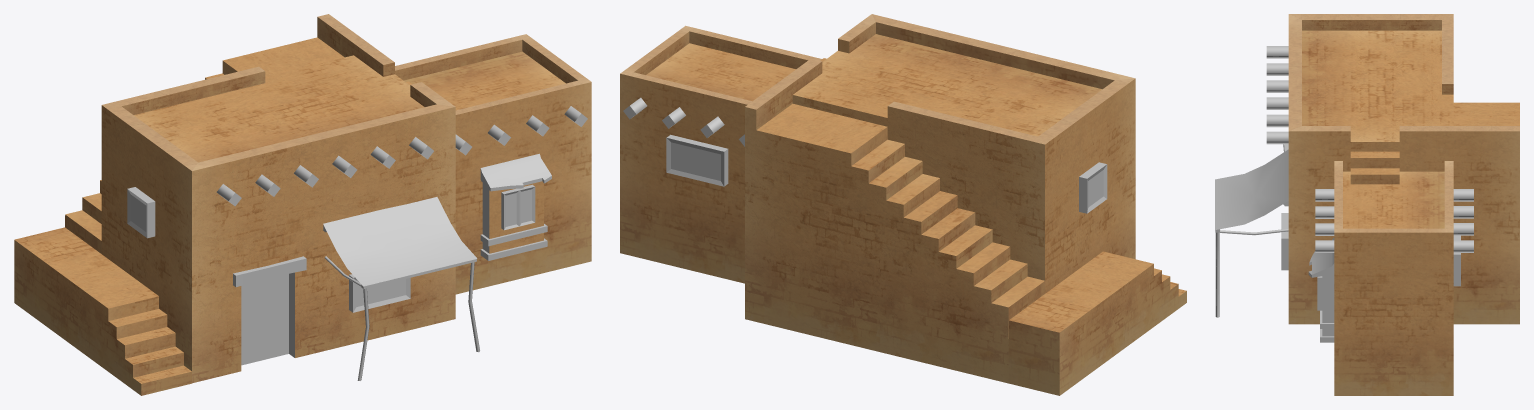
The model's file is House_05.fbx.
3 renders of one model, left to right at view 1: azimuth 30°, elevation 25°; view 2: azimuth 150°, elevation 25°; view 3: azimuth 270°, elevation 25°, orthographic. The views are drawn at different scales.
Parts seen in each view (by area): view 1: House_05; view 2: House_05; view 3: House_05.
Boxes of the visible parts, x1,y1,x2,y2 form: House_05: [14, 14, 591, 395]; House_05: [620, 14, 1186, 395]; House_05: [1215, 14, 1519, 395].
Size of the model in its own units: 205 by 87.15 by 125.
